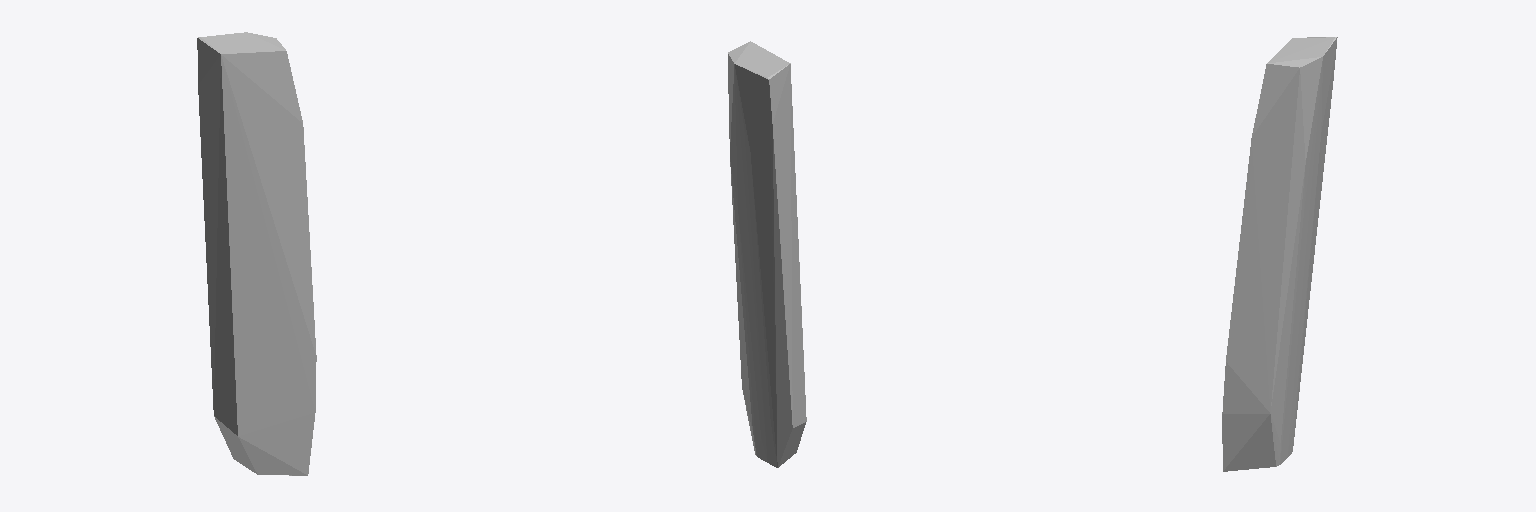
File: trash_bin_collision_7.obj
3 views of the same model, side by side, from view 1: azimuth 30°, elevation 25°; view 2: azimuth 150°, elevation 25°; view 3: azimuth 270°, elevation 25° (orthographic).
Bounding box in the file's own units: 0.0321 × 0.1883 × 0.0479.